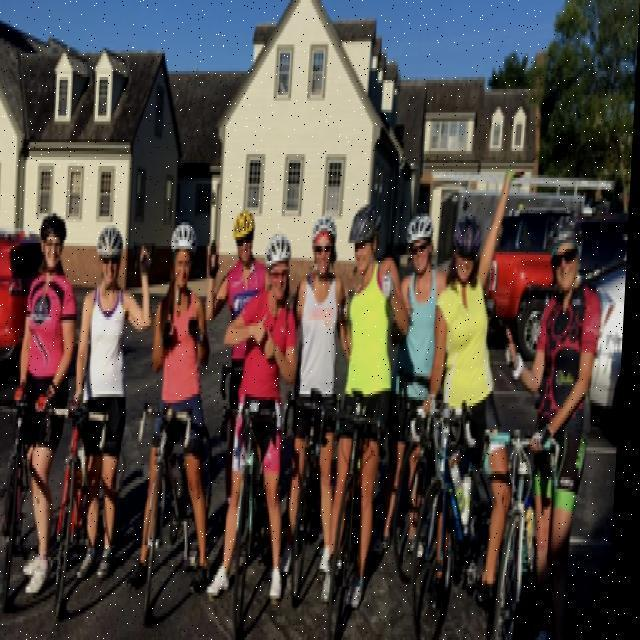Helmet: (550, 195, 588, 302), (342, 198, 388, 276), (452, 208, 489, 300), (402, 210, 442, 282), (263, 225, 300, 302), (32, 204, 75, 270), (95, 214, 129, 294), (168, 210, 202, 288), (311, 208, 344, 276), (231, 204, 260, 261)
